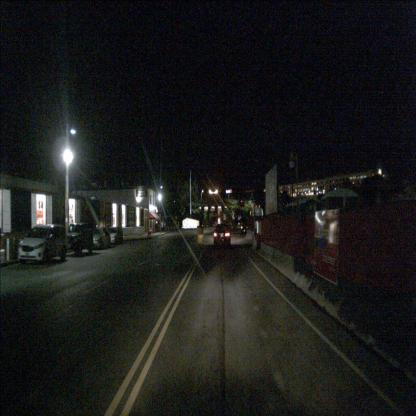barrier: (335, 289, 415, 390), (294, 263, 345, 320), (273, 248, 303, 284), (257, 241, 277, 265), (252, 238, 259, 253)
cone: (250, 226, 254, 247)
